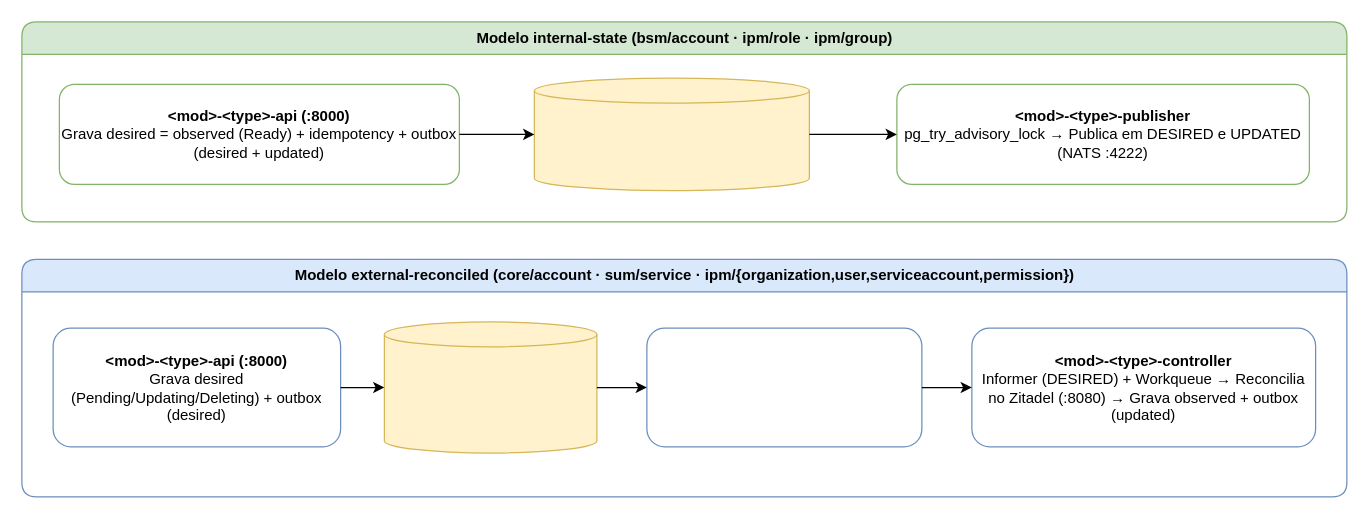
This 1369x519 diagram has some shape labels left out. Here are the shapes that lost their labels. From the top down, the centre of each, then its label:
At point (671, 134): "database: ssot (:5432) Transação ACID + Outbox".
At point (490, 387): "database: ssot (:5432) Tabela + Outbox".
At point (784, 387): "<mod>-<type>-publisher Publica no NATS JetStream (DESIRED / UPDATED)".
